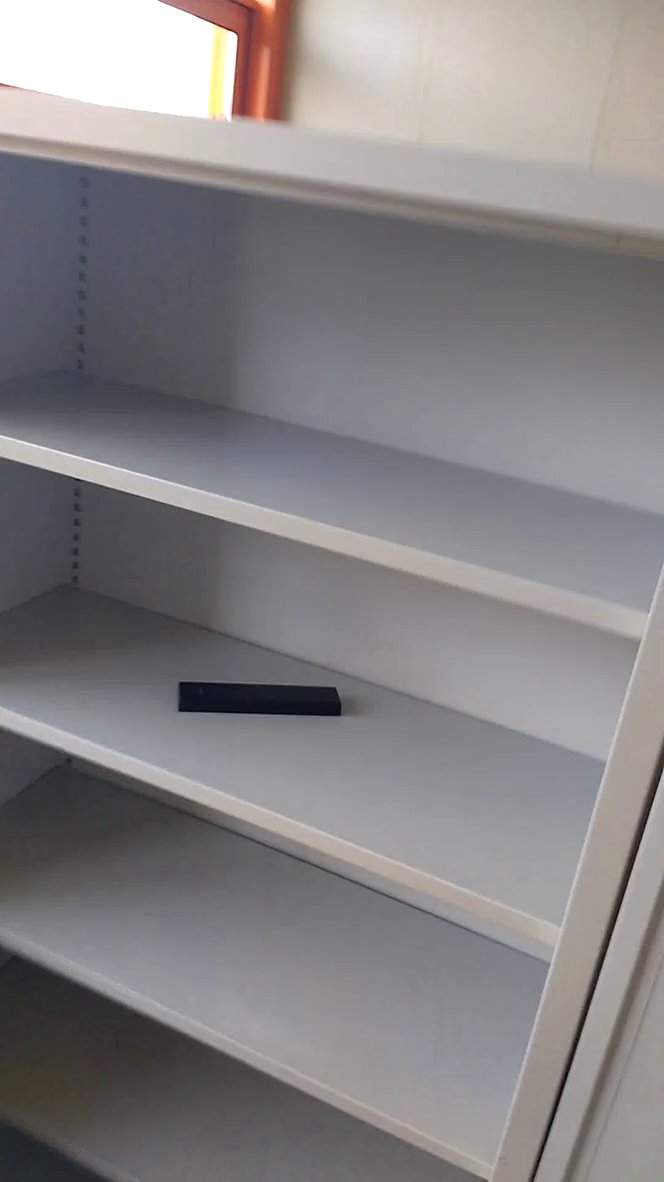remote: (166, 674, 349, 734)
